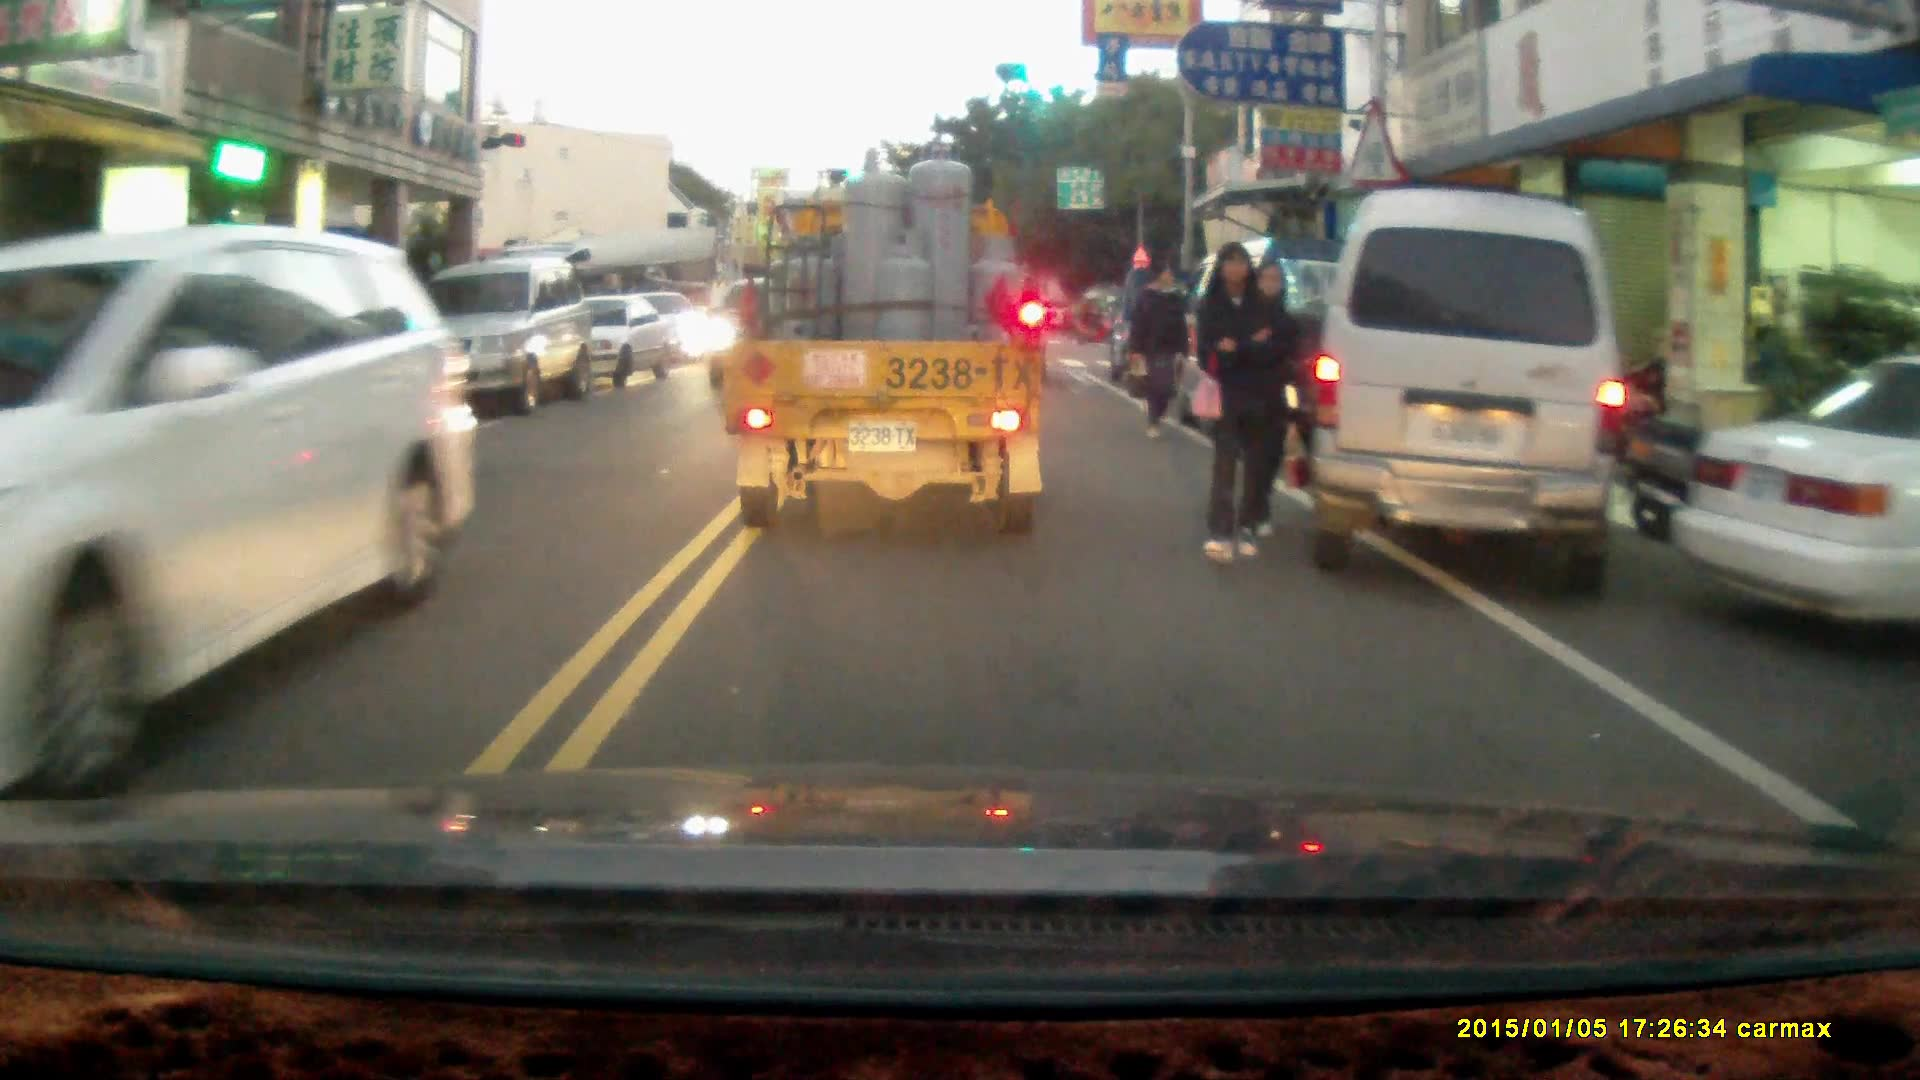pedestrian: (1192, 237, 1285, 564), (1129, 261, 1187, 440)
rider: (1074, 291, 1116, 343)
vehicle: (1, 217, 489, 747), (1302, 188, 1630, 597), (717, 137, 1053, 534), (1675, 365, 1920, 634), (377, 248, 597, 422), (527, 290, 679, 390)
